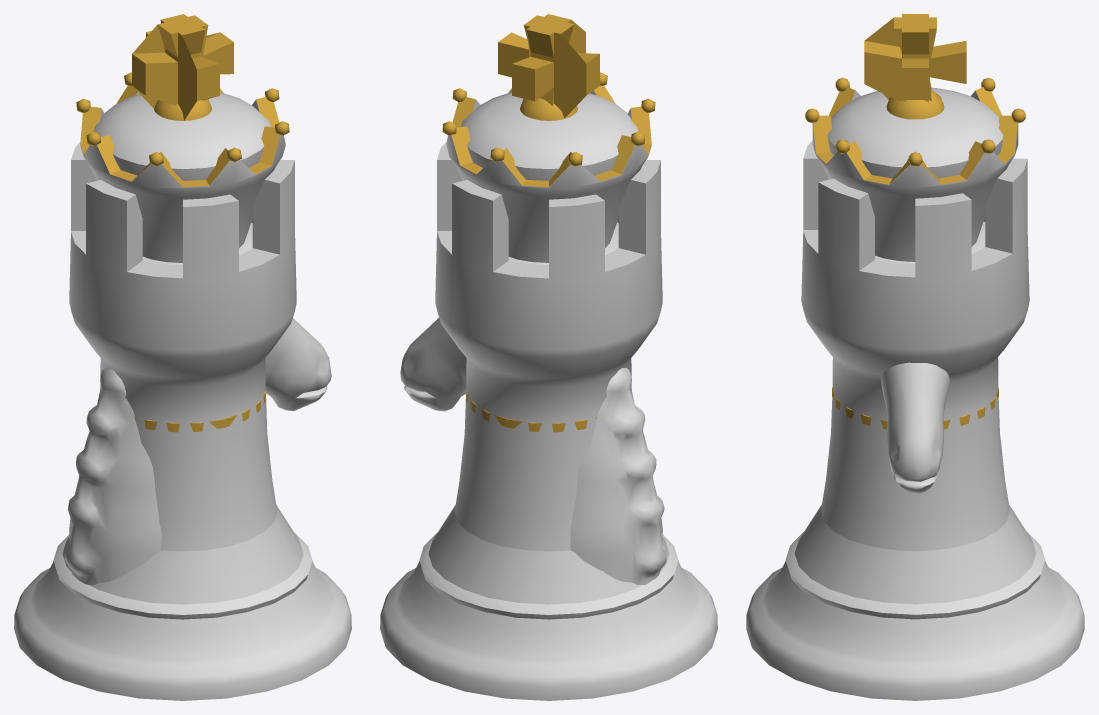
Rendered from pieces.glb.
The picture shows the model from 3 angles, left to right: view 1: azimuth 30°, elevation 25°; view 2: azimuth 150°, elevation 25°; view 3: azimuth 270°, elevation 25°; orthographic projection.
Visible parts, largest first — view 1: rook, king, knight, queen, bishop; view 2: rook, king, knight, queen, bishop; view 3: rook, king, queen, knight, bishop.
Boxes of the visible parts, x1=… form: rook: x1=69, y1=142, x2=296, y2=551; king: x1=14, y1=14, x2=351, y2=700; knight: x1=53, y1=318, x2=331, y2=619; queen: x1=76, y1=72, x2=289, y2=262; bishop: x1=134, y1=390, x2=265, y2=432; rook: x1=435, y1=142, x2=662, y2=551; king: x1=380, y1=14, x2=717, y2=700; knight: x1=400, y1=318, x2=678, y2=619; queen: x1=442, y1=72, x2=655, y2=262; bishop: x1=466, y1=390, x2=596, y2=432; rook: x1=801, y1=141, x2=1029, y2=551; king: x1=746, y1=14, x2=1084, y2=700; queen: x1=805, y1=77, x2=1025, y2=261; knight: x1=785, y1=362, x2=1045, y2=619; bishop: x1=832, y1=387, x2=998, y2=429.
Size of the model in its own units: 0.8604 by 1.7 by 0.8604.
